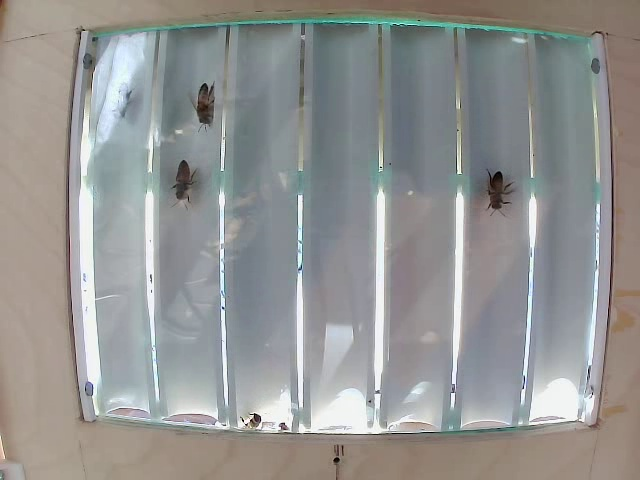bee: (478, 164, 514, 223), (157, 162, 197, 209), (193, 87, 224, 131)
